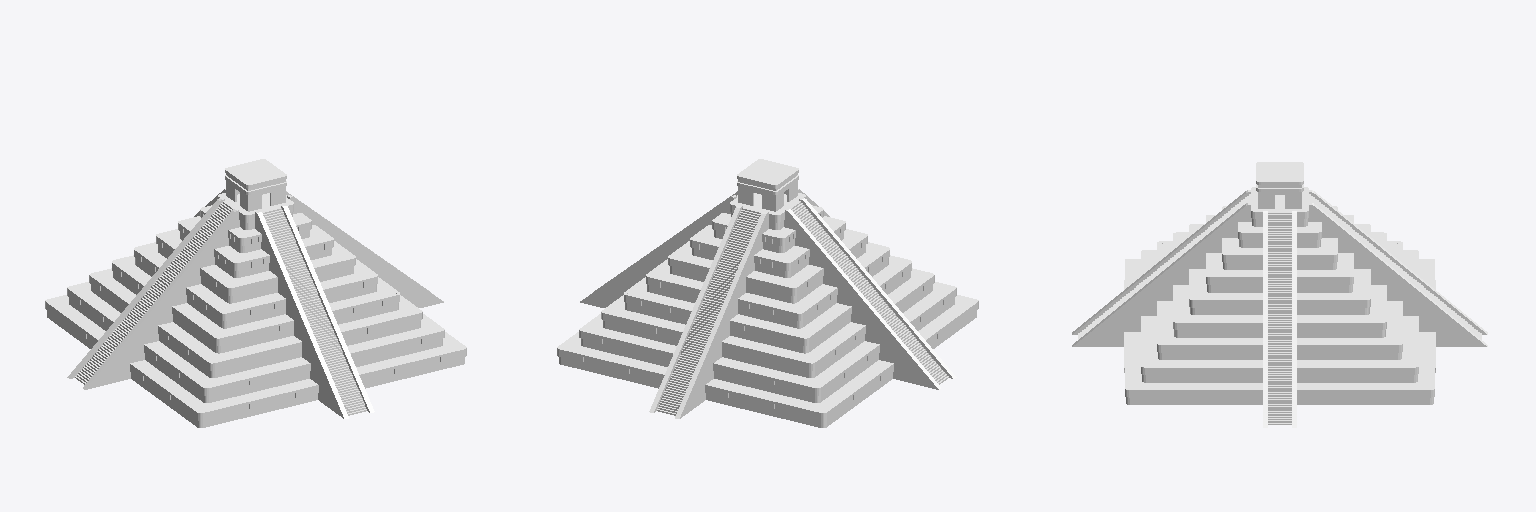
File: temple.obj
3 renders of one model, left to right at view 1: azimuth 30°, elevation 25°; view 2: azimuth 150°, elevation 25°; view 3: azimuth 270°, elevation 25°, orthographic.
Visible parts, largest first — view 1: Cube.000_Cube.002; view 2: Cube.000_Cube.002; view 3: Cube.000_Cube.002.
Part boxes in pixels (x1,y1,x2,y2): Cube.000_Cube.002: (45, 159, 466, 427); Cube.000_Cube.002: (557, 159, 978, 427); Cube.000_Cube.002: (1072, 162, 1487, 427).
Bounding box in the file's own units: 8.45 × 3.76 × 8.45.